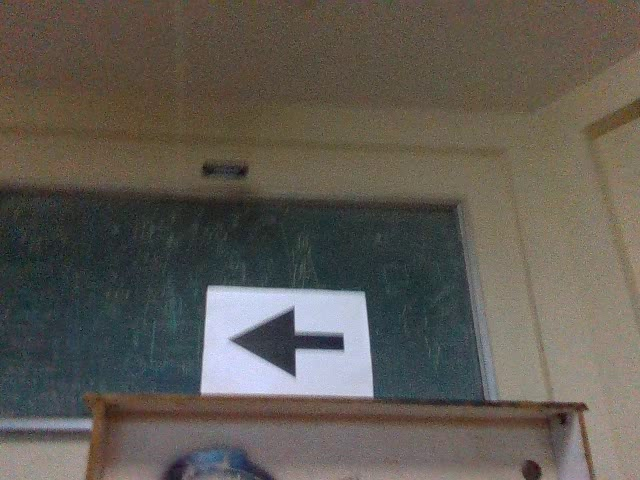Left: (226, 300, 353, 383)
